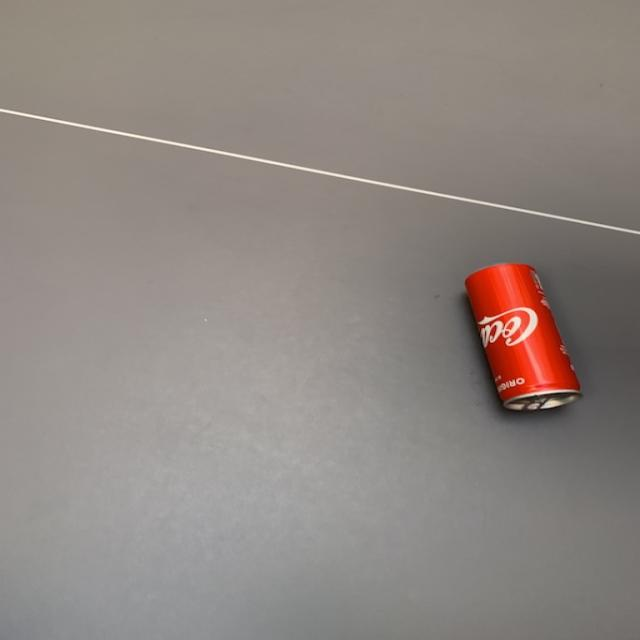litter: (460, 256, 585, 424)
